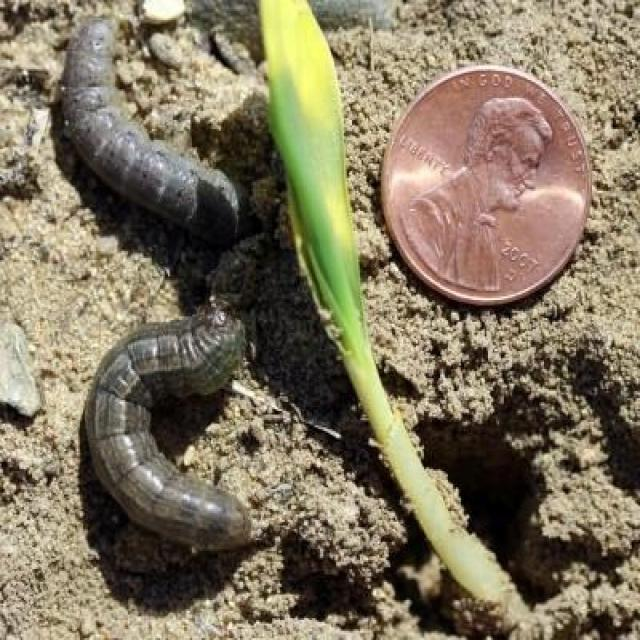black cutworm: (74, 288, 299, 543), (62, 11, 260, 256)
